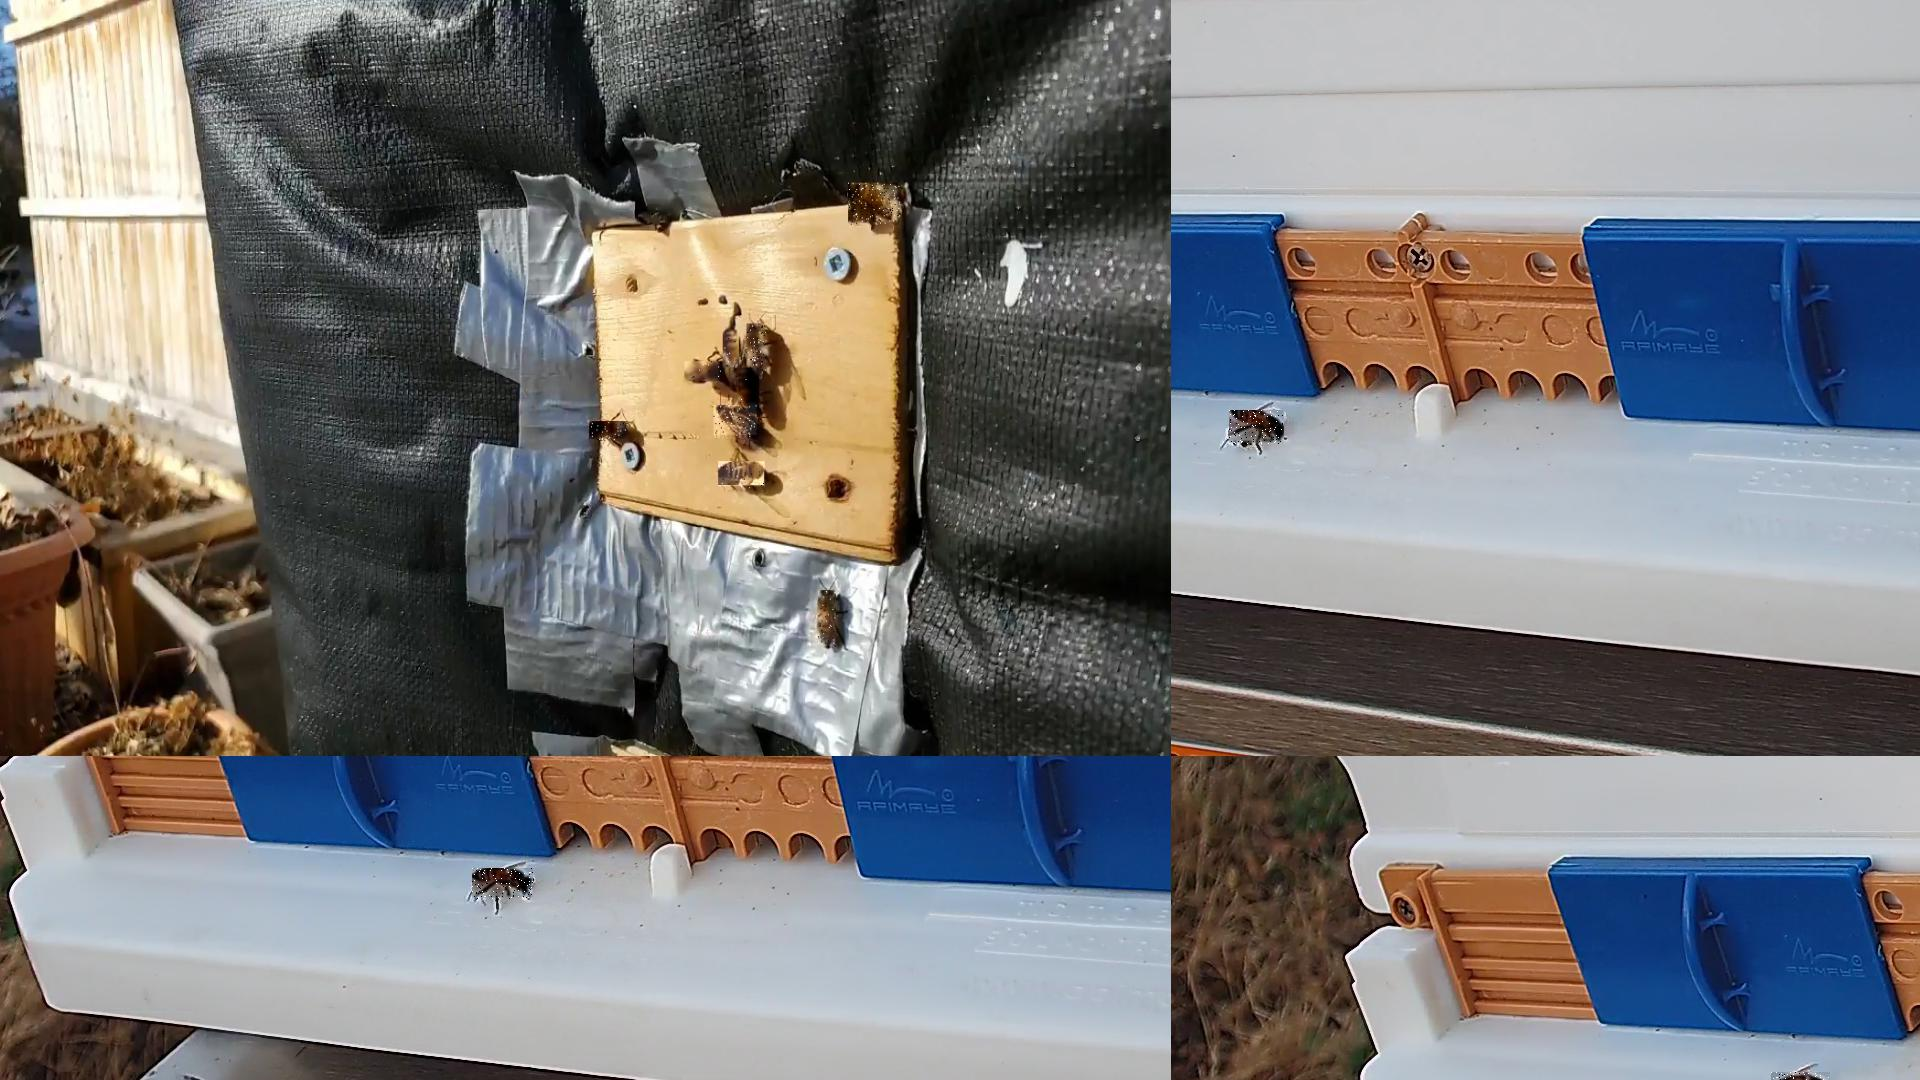bee: (849, 183, 902, 227), (1229, 410, 1286, 446), (472, 869, 534, 901), (719, 462, 769, 491), (713, 406, 757, 439), (818, 591, 837, 649), (738, 368, 761, 415), (748, 324, 767, 372), (589, 422, 629, 442), (686, 361, 723, 382), (723, 331, 740, 372), (1771, 1072, 1832, 1079)
